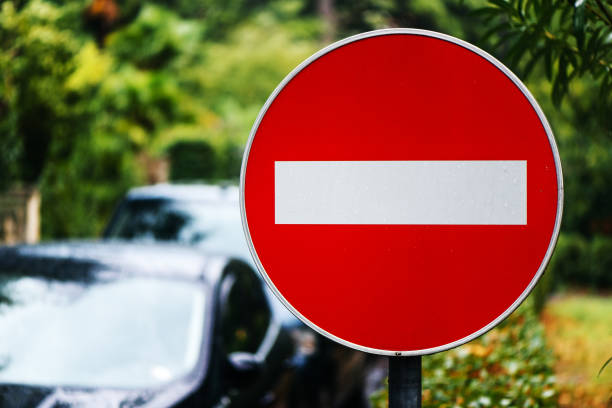Girilmez: (238, 24, 567, 359)
